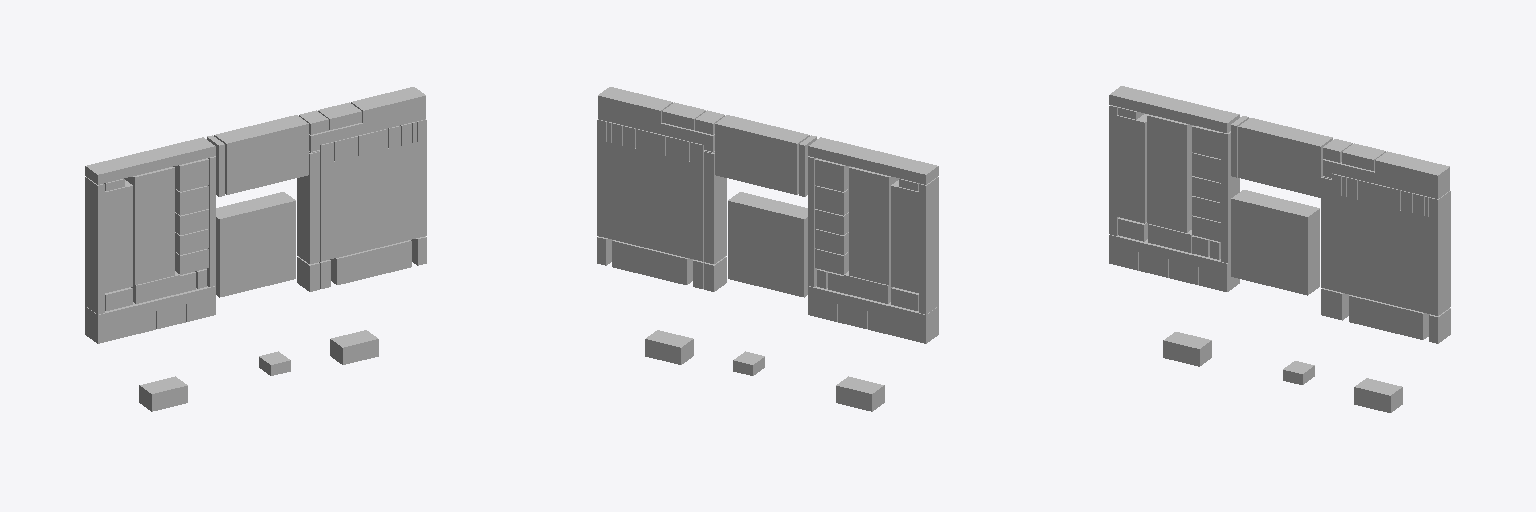
File: floor_1_rooms.obj
3 renders of one model, left to right at view 1: azimuth 30°, elevation 25°; view 2: azimuth 150°, elevation 25°; view 3: azimuth 330°, elevation 25°, orthographic.
Size of the model in its own units: 56.05 by 40.93 by 3.63.